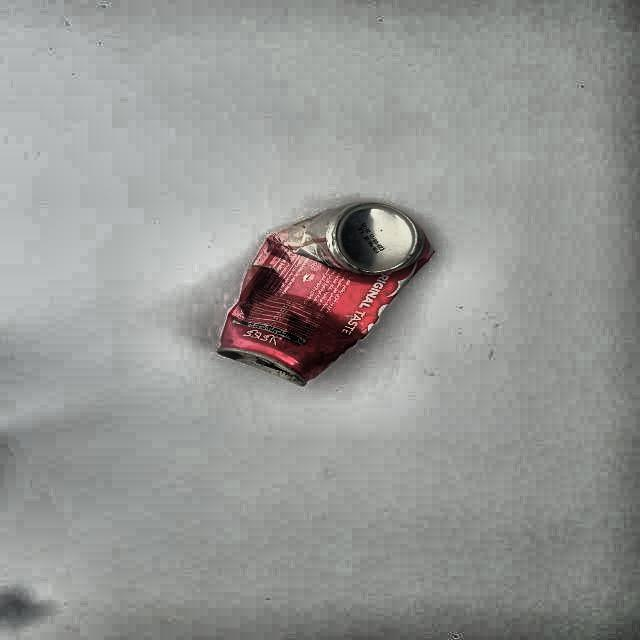metal: (218, 202, 436, 389)
